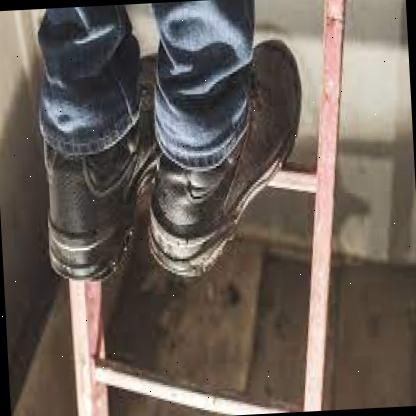bota: (136, 34, 314, 284), (37, 51, 170, 288)
